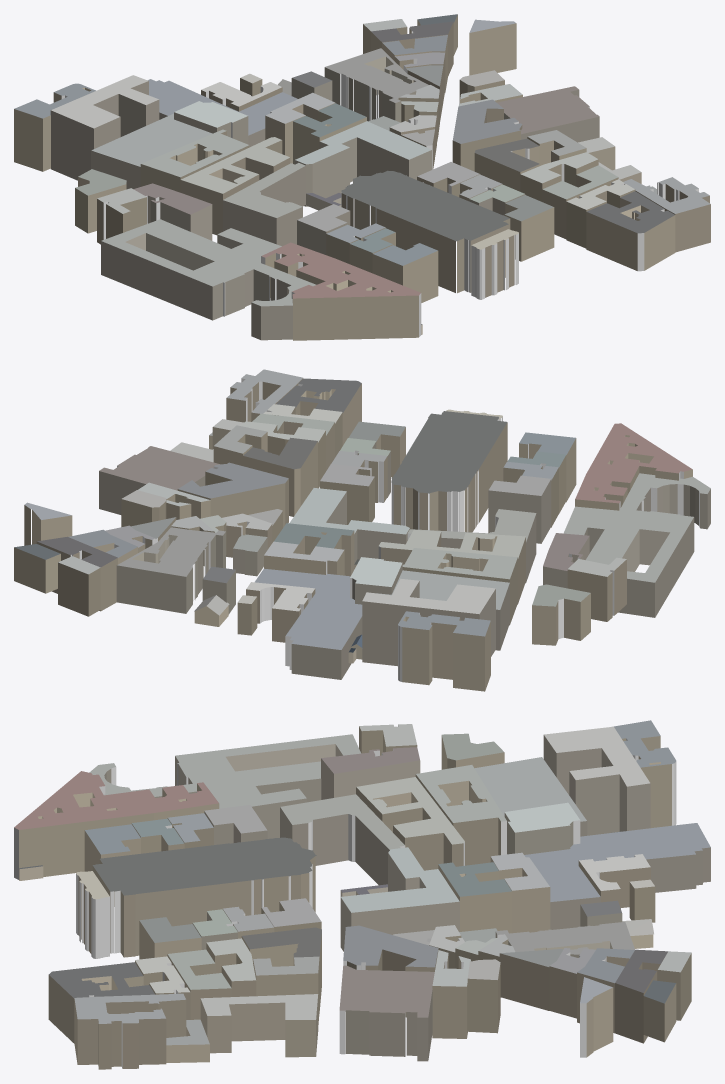
3 renders of one model, top to bottom at view 1: azimuth 30°, elevation 25°; view 2: azimuth 150°, elevation 25°; view 3: azimuth 270°, elevation 25°, orthographic. The views are drawn at different scales.
Parts seen in each view (by area): view 1: tuile; view 2: tuile; view 3: tuile.
Part boxes in pixels (x1,y1,x2,y2): tuile: [14, 14, 710, 340]; tuile: [14, 369, 710, 691]; tuile: [14, 720, 710, 1069].
Bounding box in the file's own units: 267 × 36.77 × 265.
